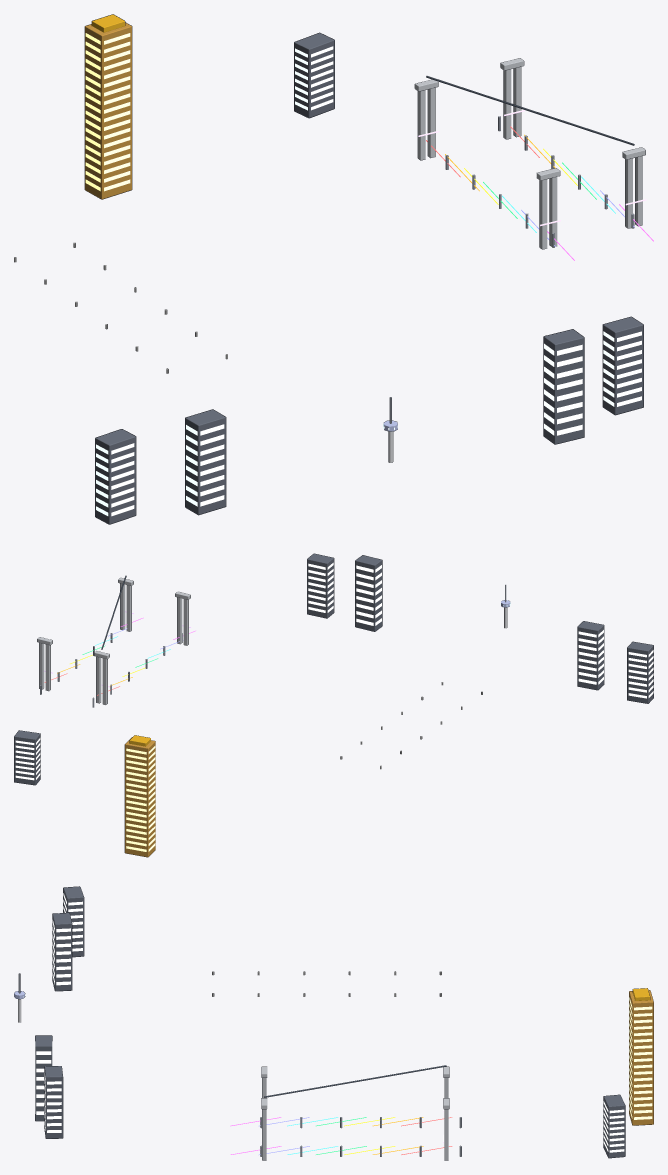
Rendered from hangang.glb.
3 renders of one model, top to bottom at view 1: azimuth 30°, elevation 25°; view 2: azimuth 150°, elevation 25°; view 3: azimuth 270°, elevation 25°, orthographic. The views are drawn at different scales.
Parts seen in each view (by area): view 1: sixtythree, banpo_towers, river_apts0, river_apts2, river_apts1, river_apts3, river_apts4, hangang_bridge_details; view 2: sixtythree, banpo_towers, river_apts0, river_apts2, river_apts1, river_apts3, river_apts4, hangang_bridge_details; view 3: sixtythree, river_apts2, banpo_towers, river_apts1, river_apts4, hangang_bridge_details, river_apts3, river_apts0.
Part boxes in pixels (box(x1,y1,x2,y2)): sixtythree: box(84, 14, 132, 199); banpo_towers: box(414, 58, 646, 249); river_apts0: box(543, 329, 584, 444); river_apts2: box(185, 409, 226, 515); river_apts1: box(602, 316, 643, 415); river_apts3: box(95, 429, 136, 524); river_apts4: box(294, 32, 334, 118); hangang_bridge_details: box(14, 116, 653, 373); sixtythree: box(124, 735, 155, 857); banpo_towers: box(37, 575, 191, 704); river_apts0: box(355, 555, 382, 631); river_apts2: box(577, 621, 604, 690); river_apts1: box(307, 553, 334, 618); river_apts3: box(627, 641, 653, 703); river_apts4: box(14, 730, 40, 785); hangang_bridge_details: box(40, 617, 482, 769); sixtythree: box(629, 988, 653, 1125); river_apts2: box(52, 912, 72, 991); banpo_towers: box(261, 1065, 449, 1160); river_apts1: box(44, 1066, 63, 1138); river_apts4: box(603, 1094, 625, 1158); hangang_bridge_details: box(212, 971, 461, 1156); river_apts3: box(63, 886, 84, 957); river_apts0: box(35, 1035, 52, 1121).
Bounding box in the file's own units: 408 × 98.4 × 450.
